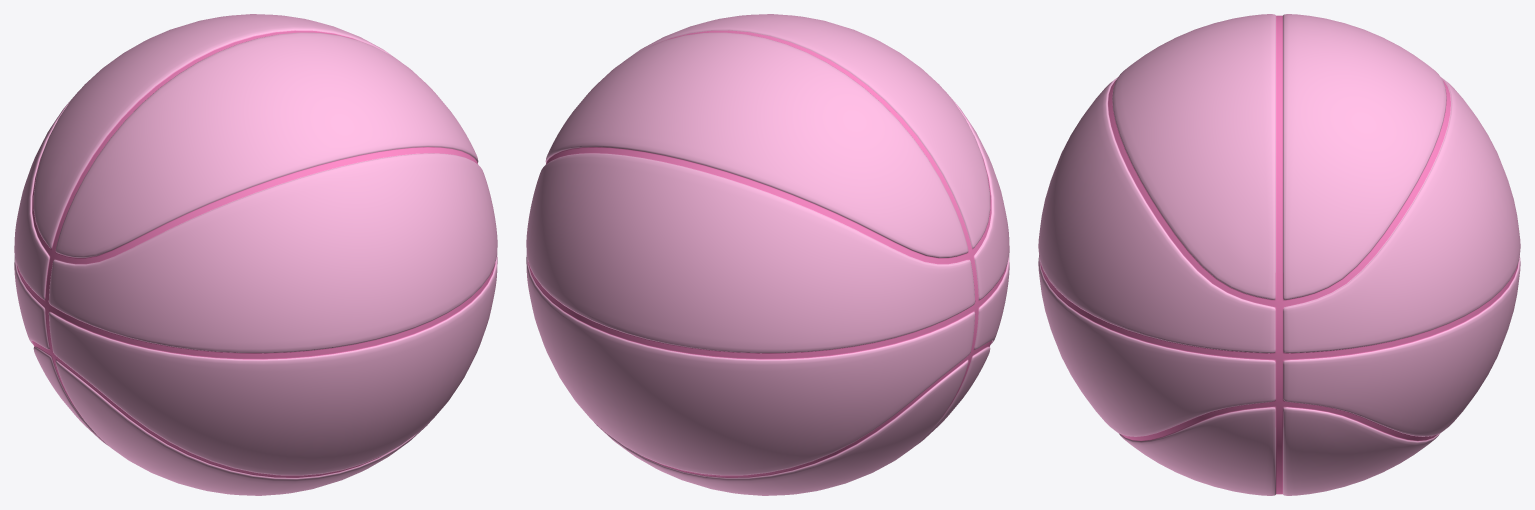
Rendered from ballModern.fbx.
3 views of the same model, side by side, from view 1: azimuth 30°, elevation 25°; view 2: azimuth 150°, elevation 25°; view 3: azimuth 270°, elevation 25° (orthographic).
Visible parts, largest first — view 1: bbc_ball_body; view 2: bbc_ball_body; view 3: bbc_ball_body.
Boxes of the visible parts, x1,y1,x2,y2 form: bbc_ball_body: (14,14,497,495); bbc_ball_body: (526,14,1009,495); bbc_ball_body: (1038,14,1520,495).
Size of the model in its own units: 24.04 by 23.94 by 23.94.
